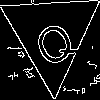Q: (26, 10, 80, 73)
